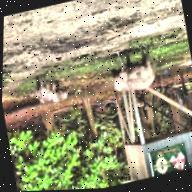boar: (92, 43, 161, 111), (26, 71, 56, 110), (48, 68, 76, 108)
